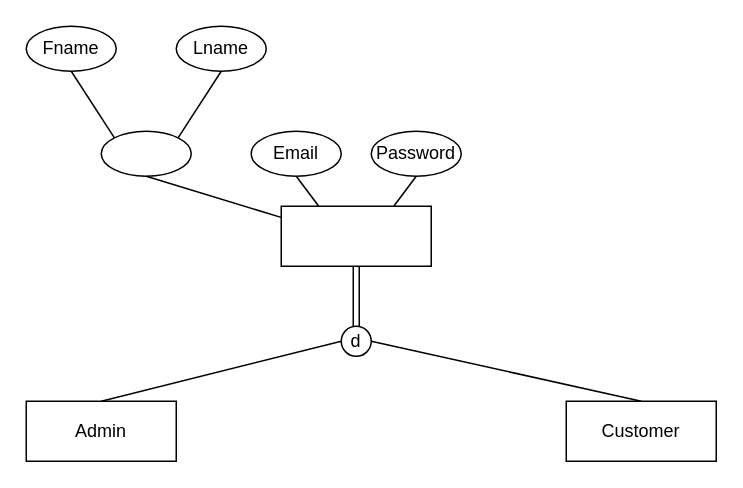
Some shapes in this 743 by 488 pixel diagram are drawn without their labels. Here are the shapes that lost their labels. From the top down, the centre of each, then its label:
At point (145, 153): "Name".
At point (355, 235): "User".
